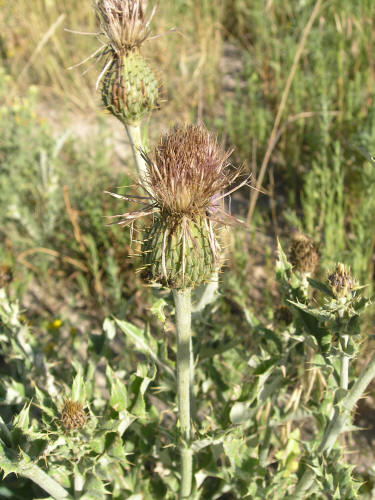thistle: (125, 127, 237, 299), (83, 1, 170, 126)
